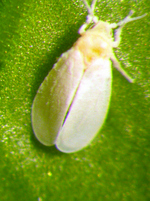whitefly: (32, 1, 146, 155)
